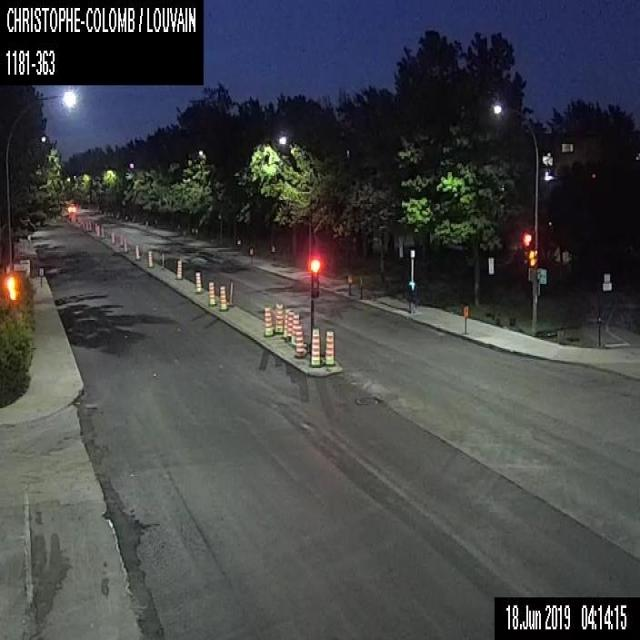construction: (307, 327, 319, 368), (322, 328, 332, 368), (262, 304, 273, 336), (294, 323, 304, 356), (273, 302, 283, 334), (79, 223, 102, 236), (290, 312, 298, 346), (282, 307, 289, 339), (286, 309, 293, 340), (218, 284, 225, 309), (174, 259, 182, 280), (207, 280, 214, 304), (194, 271, 201, 292), (146, 249, 152, 267), (134, 242, 139, 258), (110, 233, 114, 244), (123, 237, 126, 251)
